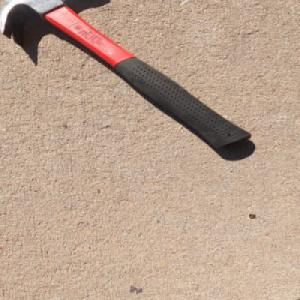Hammer: (9, 0, 256, 151)
